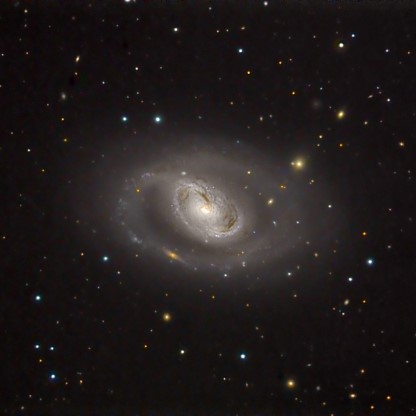Messier 96: (64, 114, 355, 293)
